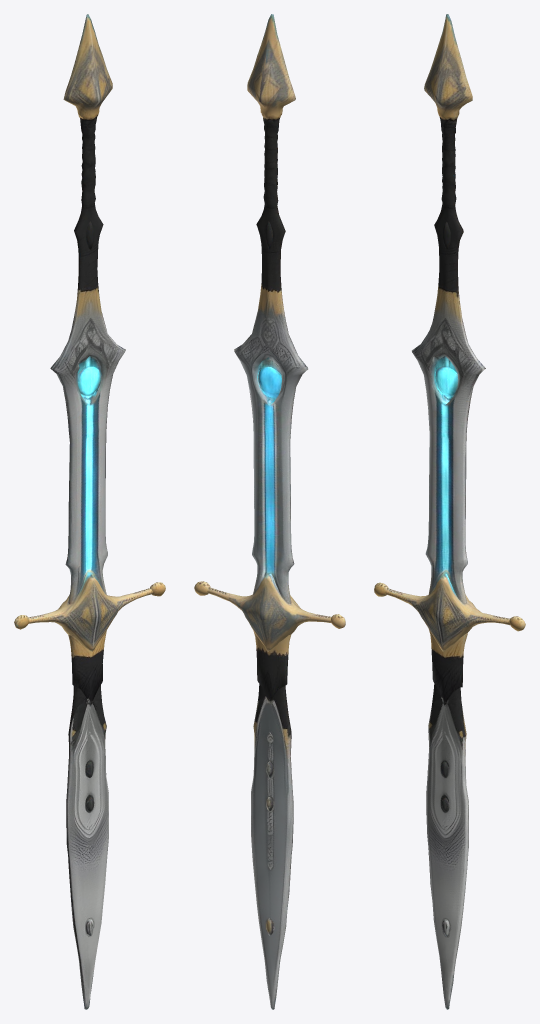
Rendered from lunar-greatsword.glb.
3 renders of one model, left to right at view 1: azimuth 30°, elevation 25°; view 2: azimuth 150°, elevation 25°; view 3: azimuth 330°, elevation 25°, orthographic.
Size of the model in its own units: 0.158 by 1 by 0.0399.
Materials: 1 (1 with a texture image).
